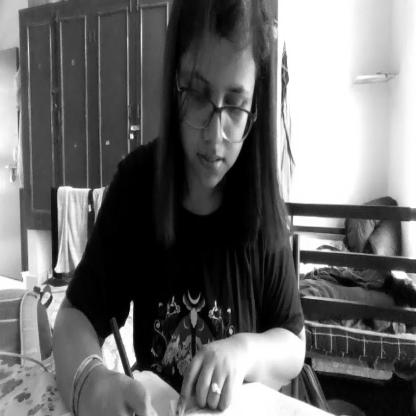Normal: (169, 0, 268, 198)
